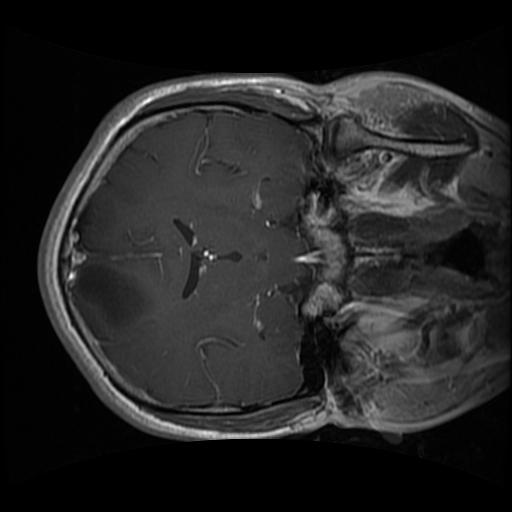glioma: (69, 259, 158, 329)
